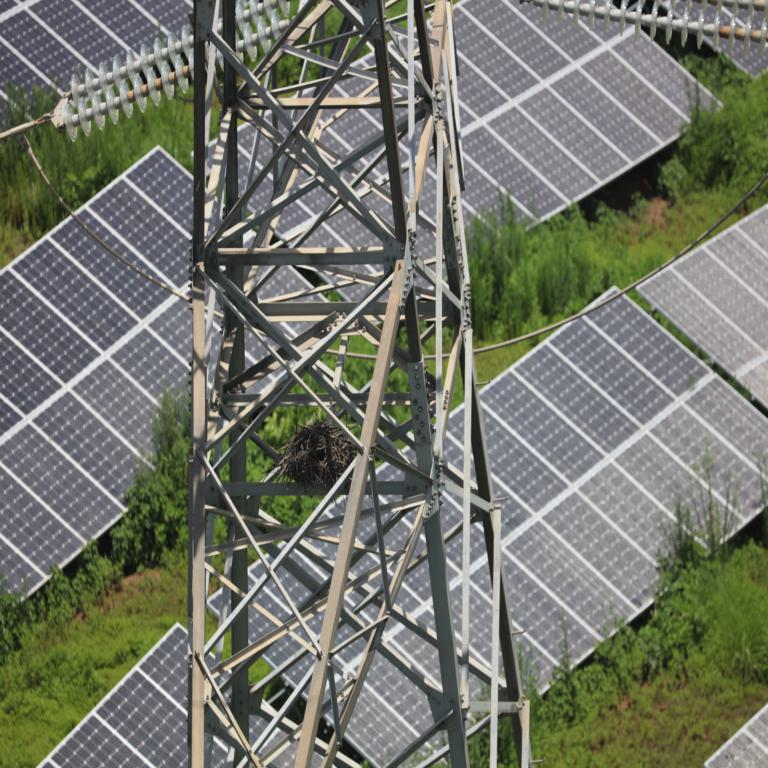nest: (279, 420, 351, 486)
